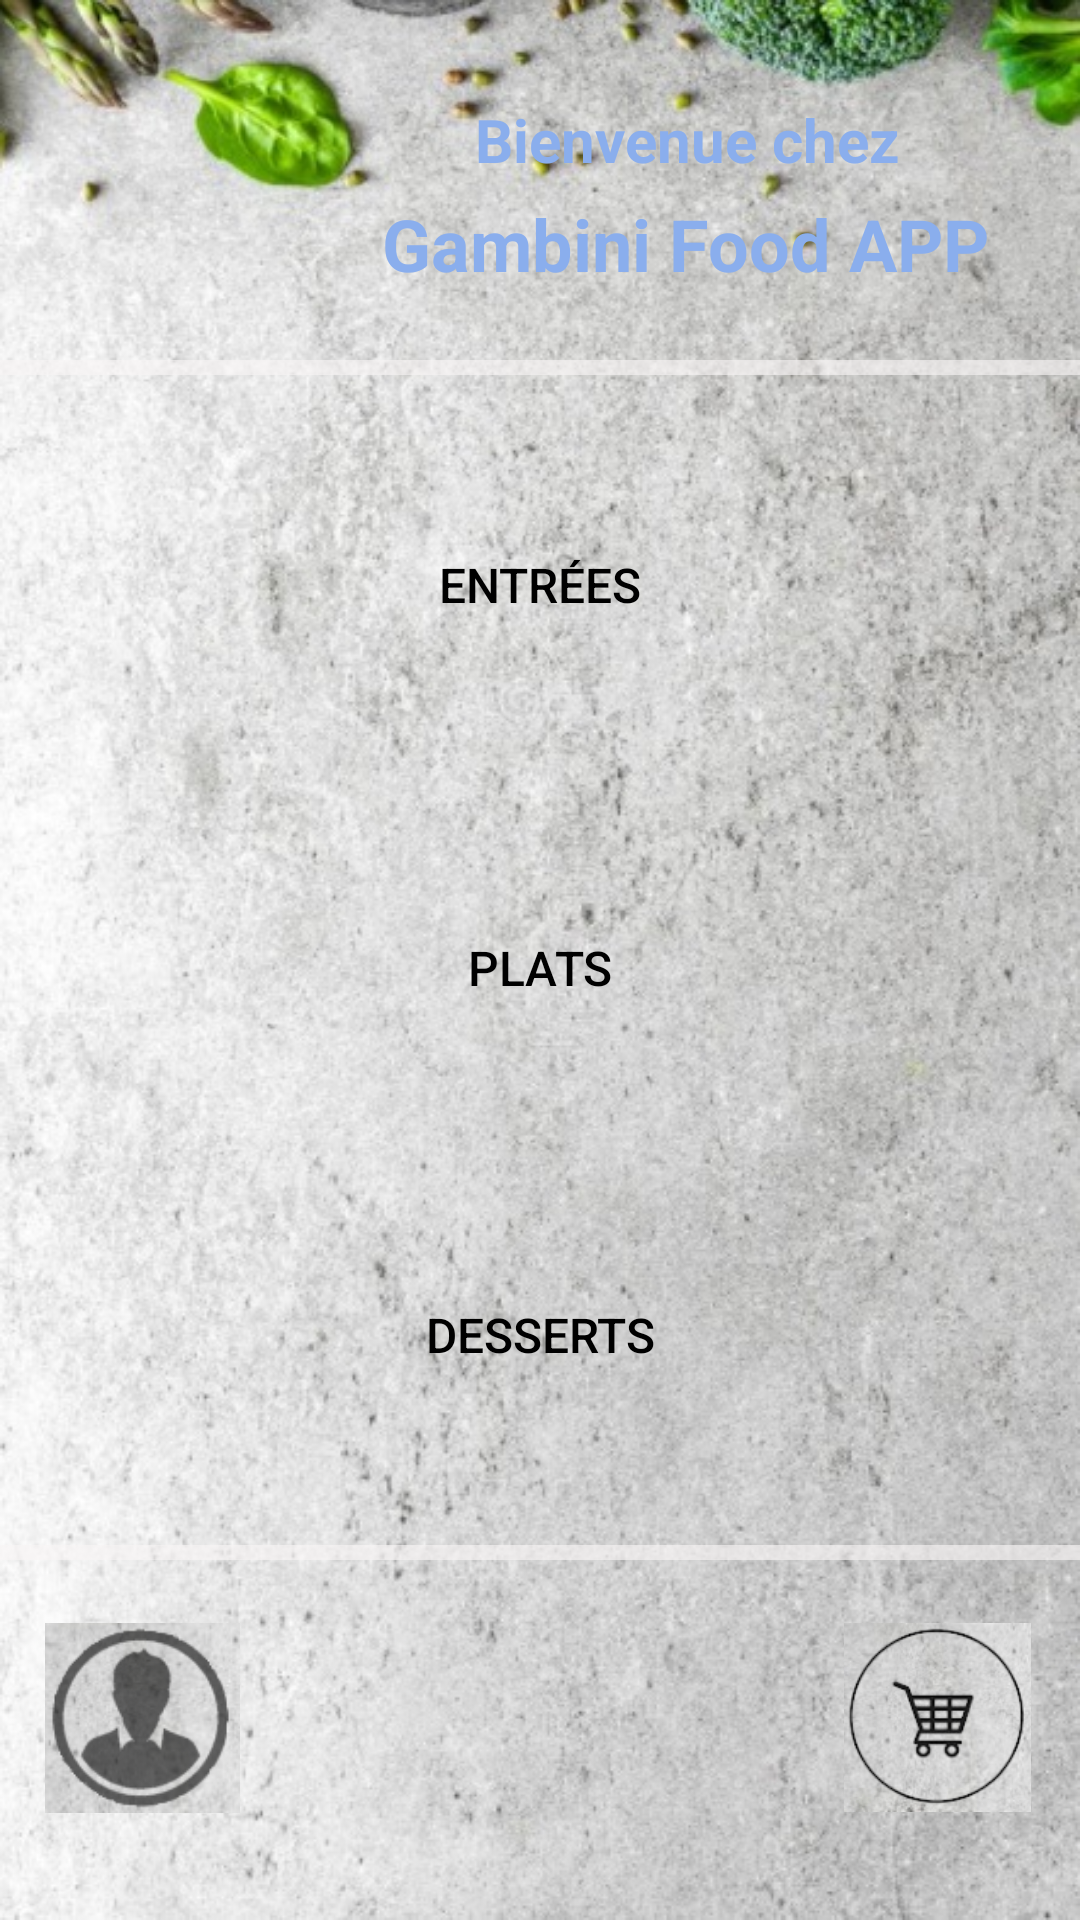

Point at icon controls on the screen. Image size 1080×1920, points as (x,y).
panier: (938,1717)
user: (142,1715)
